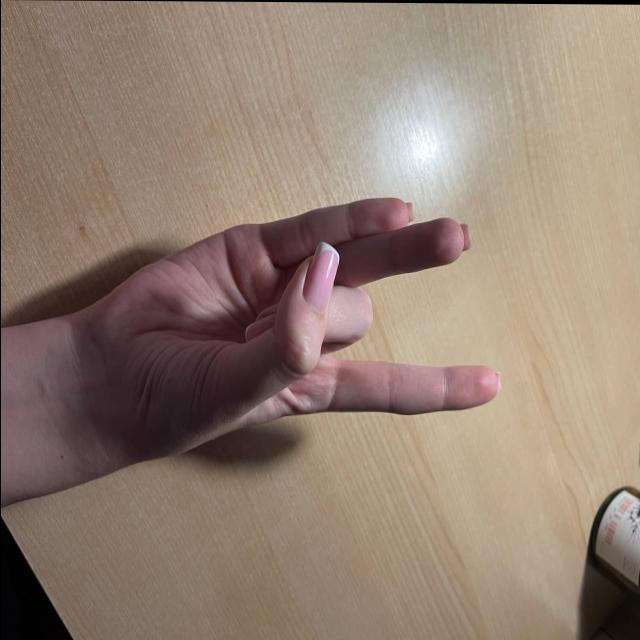r: (47, 151, 493, 536)
